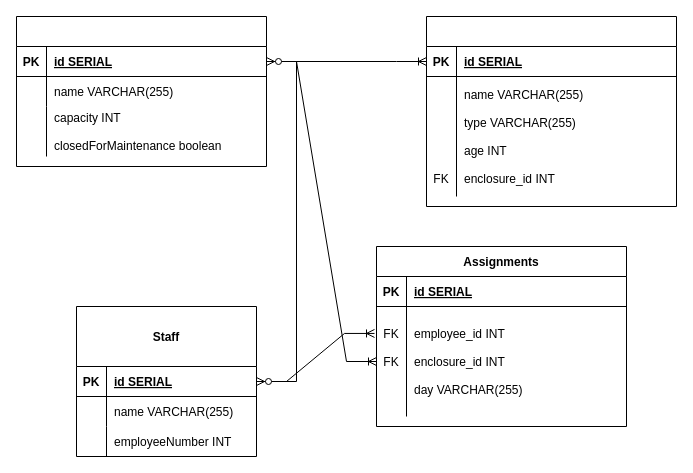
This 693x473 diagram has some shape labels left out. Each missing label, with the box of its shape:
Animals: (426, 16, 676, 206)
Enclosures: (16, 16, 266, 166)
